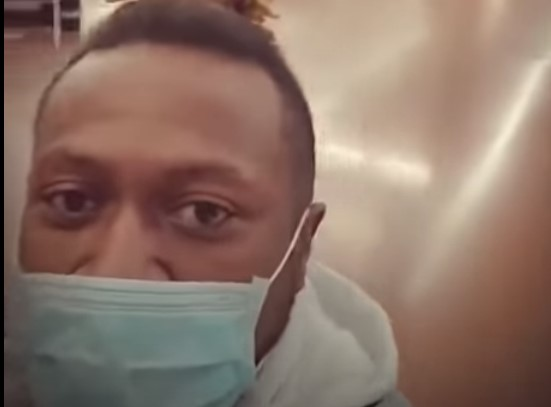face_with_mask: (6, 5, 327, 406)
